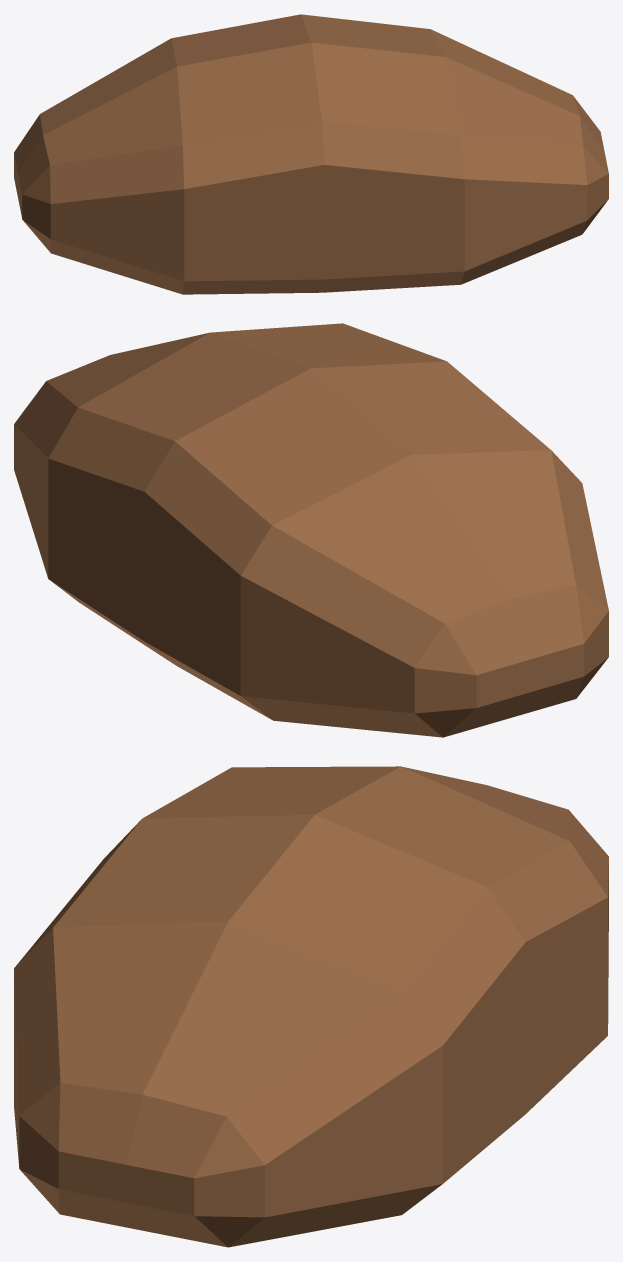
Rendered from Bread01.fbx.
3 renders of one model, top to bottom at view 1: azimuth 30°, elevation 25°; view 2: azimuth 150°, elevation 25°; view 3: azimuth 270°, elevation 25°, orthographic. The views are drawn at different scales.
Parts seen in each view (by area): view 1: Bread.003; view 2: Bread.003; view 3: Bread.003.
Part boxes in pixels (x1,y1,x2,y2): Bread.003: [14, 14, 608, 294]; Bread.003: [14, 323, 608, 737]; Bread.003: [14, 766, 608, 1247].
Size of the model in its own units: 121 by 45.92 by 83.58.
